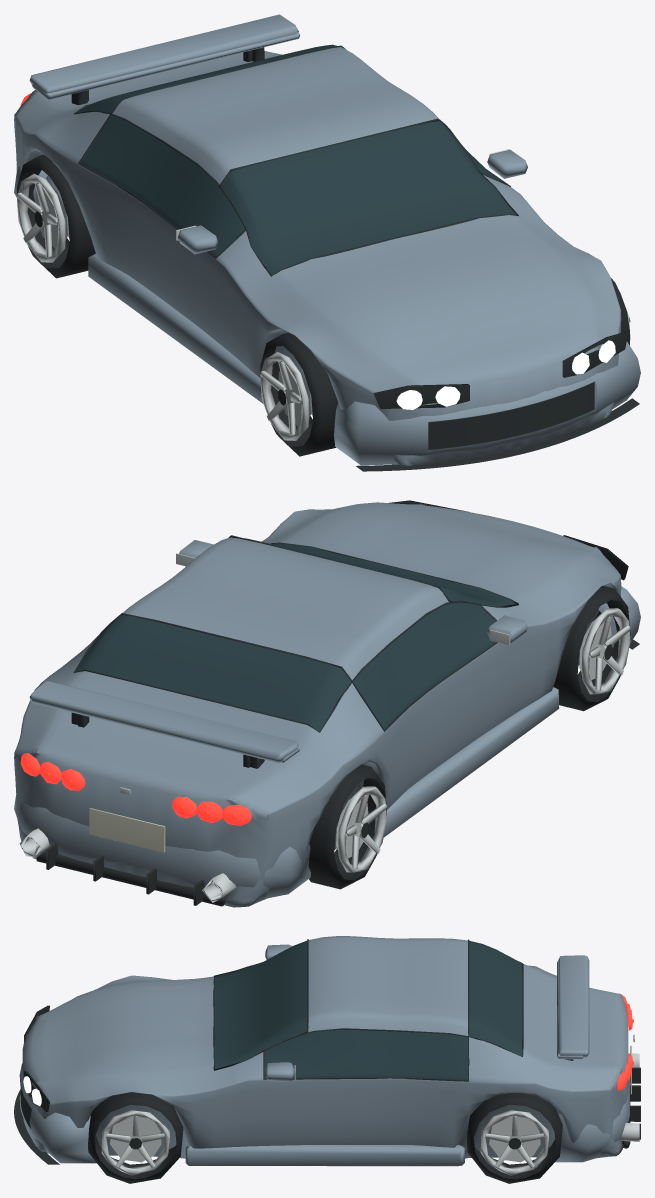
Rendered from lyra-r2.glb.
3 views of the same model, one above another, from view 1: azimuth 30°, elevation 25°; view 2: azimuth 150°, elevation 25°; view 3: azimuth 270°, elevation 25° (orthographic). The views are drawn at different scales.
Parts seen in each view (by area): view 1: cofano, scocca, cristallo_ant, tetto, porta_sx, cristallo_sx, paraurti_ant, spoiler, minigonna_sx, griglia, ruota_ant_sx_gomma, ruota_post_sx_gomma (+15 smaller); view 2: scocca, tetto, portellone, cofano, cristallo_post, porta_sx, cristallo_sx, paraurti_post, spoiler, minigonna_sx, ruota_post_sx_gomma, ruota_ant_sx_gomma (+16 smaller); view 3: scocca, cofano, tetto, porta_dx, cristallo_dx, cristallo_ant, portellone, minigonna_dx, cristallo_post, spoiler, ruota_ant_dx_gomma, ruota_post_dx_gomma (+13 smaller).
Boxes of the visible parts, x1,y1,x2,y2 form: cofano: (272,215,600,377); scocca: (14,95,621,466); cristallo_ant: (221,121,516,275); tetto: (112,47,439,184); porta_sx: (78,164,230,352); cristallo_sx: (80,115,245,256); paraurti_ant: (334,341,640,465); spoiler: (29,14,298,93); minigonna_sx: (88,253,263,403); griglia: (428,382,594,449); ruota_ant_sx_gomma: (260,332,338,456); ruota_post_sx_gomma: (17,154,95,278); scocca: (14,504,621,907); tetto: (123,537,448,680); portellone: (30,671,319,803); cofano: (275,502,599,604); cristallo_post: (75,614,351,731); porta_sx: (377,637,521,809); cristallo_sx: (353,602,496,729); paraurti_post: (14,794,310,898); spoiler: (29,681,298,763); minigonna_sx: (383,687,559,837); ruota_post_sx_gomma: (308,764,386,889); ruota_ant_sx_gomma: (553,586,630,711); scocca: (22,965,628,1158); cofano: (44,977,213,1086); tetto: (308,936,468,1035); porta_dx: (248,1078,468,1158); cristallo_dx: (264,1029,467,1080); cristallo_ant: (214,940,307,1069); portellone: (523,964,628,1073); minigonna_dx: (185,1145,464,1166); cristallo_post: (469,941,522,1056); spoiler: (558,955,589,1057); ruota_ant_dx_gomma: (88,1092,183,1183); ruota_post_dx_gomma: (466,1093,562,1183).
Size of the model in its own units: 2.12 by 1.17 by 4.4.
